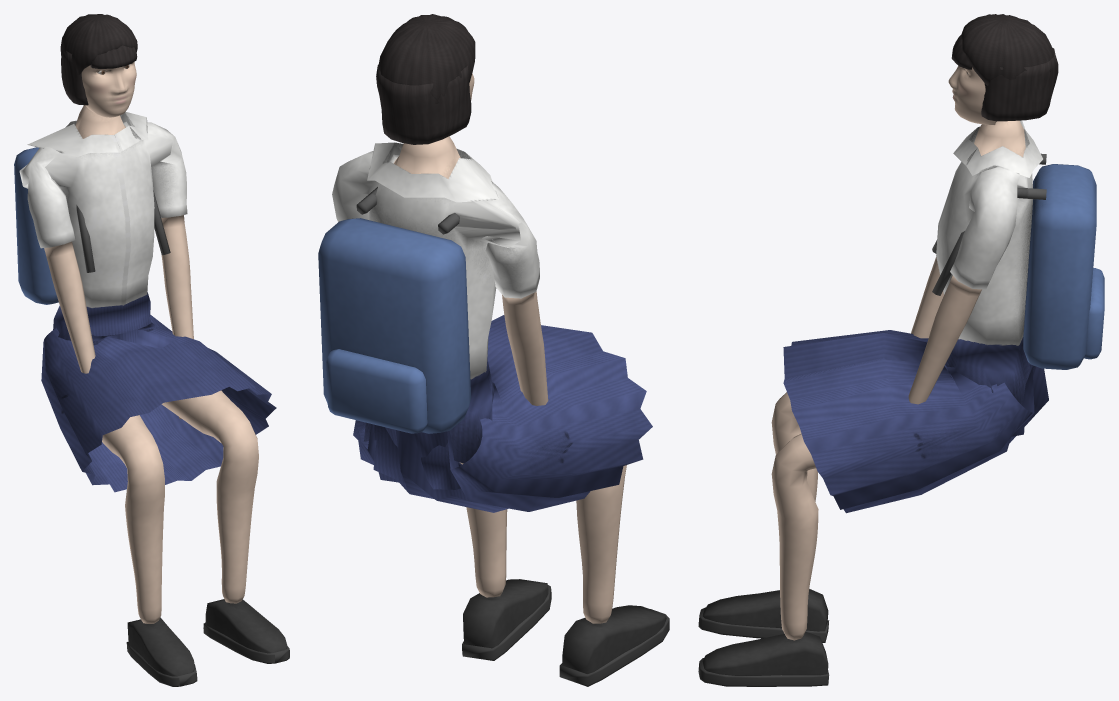
The model's file is SEAT_PassengerA.fbx.
3 views of the same model, side by side, from view 1: azimuth 30°, elevation 25°; view 2: azimuth 150°, elevation 25°; view 3: azimuth 270°, elevation 25° (orthographic). The views are drawn at different scales.
Parts seen in each view (by area): view 1: SEAT_PassengerA; view 2: SEAT_PassengerA; view 3: SEAT_PassengerA.
Boxes of the visible parts, bbox=[...] form: SEAT_PassengerA: bbox=[14, 14, 289, 686]; SEAT_PassengerA: bbox=[318, 14, 669, 686]; SEAT_PassengerA: bbox=[698, 14, 1104, 686].
Size of the model in its own units: 0.4778 by 1.36 by 0.779.
1 material, 1 textured.
